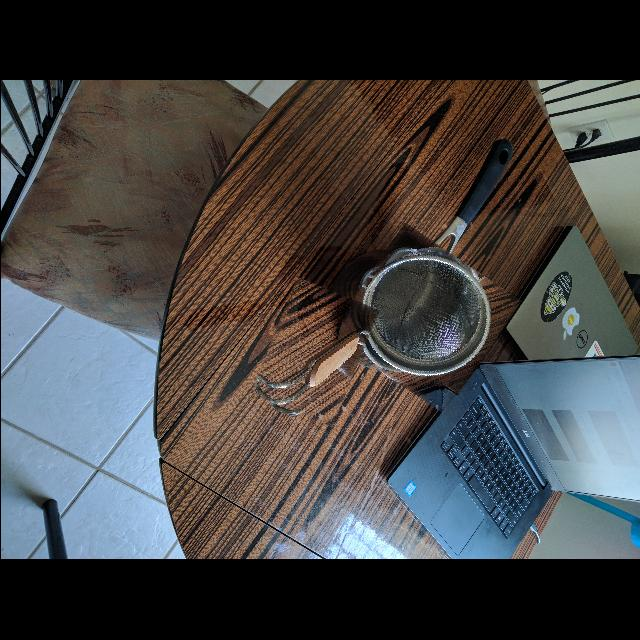Handle: (250, 307, 371, 409)
Strainer: (354, 252, 493, 382)
